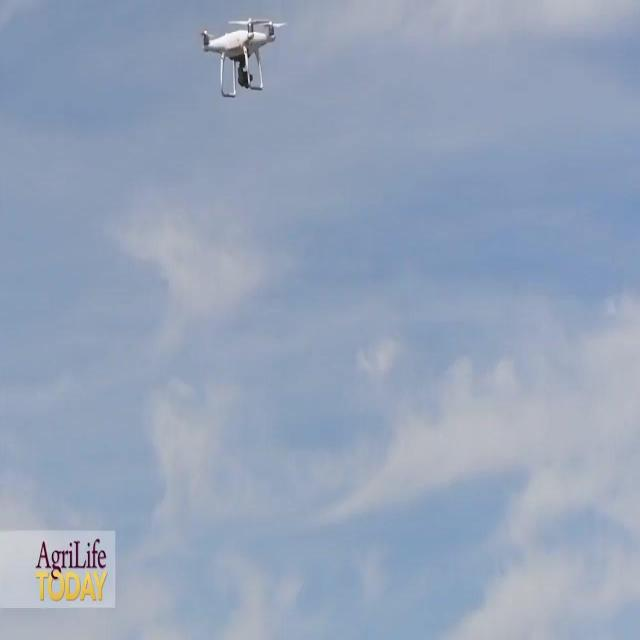UAV: (199, 17, 288, 98)
